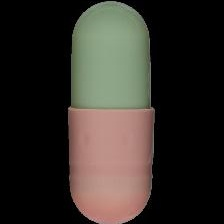61919-245: (0, 0, 224, 224)
